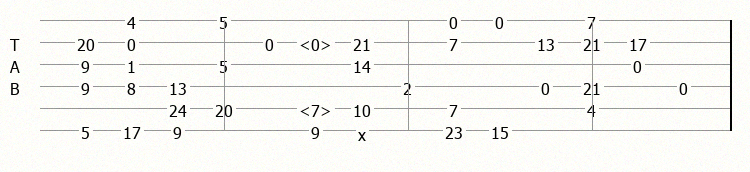0: (127, 34, 140, 50), (265, 34, 278, 50), (449, 12, 462, 28), (495, 12, 508, 28), (541, 78, 554, 94), (633, 56, 646, 72), (679, 78, 692, 94)
1: (127, 56, 140, 72)
10: (353, 100, 375, 116)
13: (169, 78, 191, 94), (537, 34, 559, 50)
14: (353, 56, 375, 72)
15: (491, 122, 513, 138)
17: (123, 122, 145, 138), (629, 34, 651, 50)
2: (403, 78, 416, 94)
20: (77, 34, 99, 50), (215, 100, 237, 116)
21: (353, 34, 375, 50), (583, 78, 605, 94), (583, 34, 605, 50)
23: (445, 122, 467, 138)
24: (169, 100, 191, 116)
4: (127, 12, 140, 28), (587, 100, 600, 116)
5: (81, 122, 94, 138), (219, 12, 232, 28), (219, 56, 232, 72)
7: (449, 34, 462, 50), (449, 100, 462, 116), (587, 12, 600, 28)
8: (127, 78, 140, 94)
9: (81, 78, 94, 94), (81, 56, 94, 72), (173, 122, 186, 138), (311, 122, 324, 138)
harmonic: (299, 34, 336, 50), (299, 100, 336, 116)
x: (358, 124, 370, 137)
